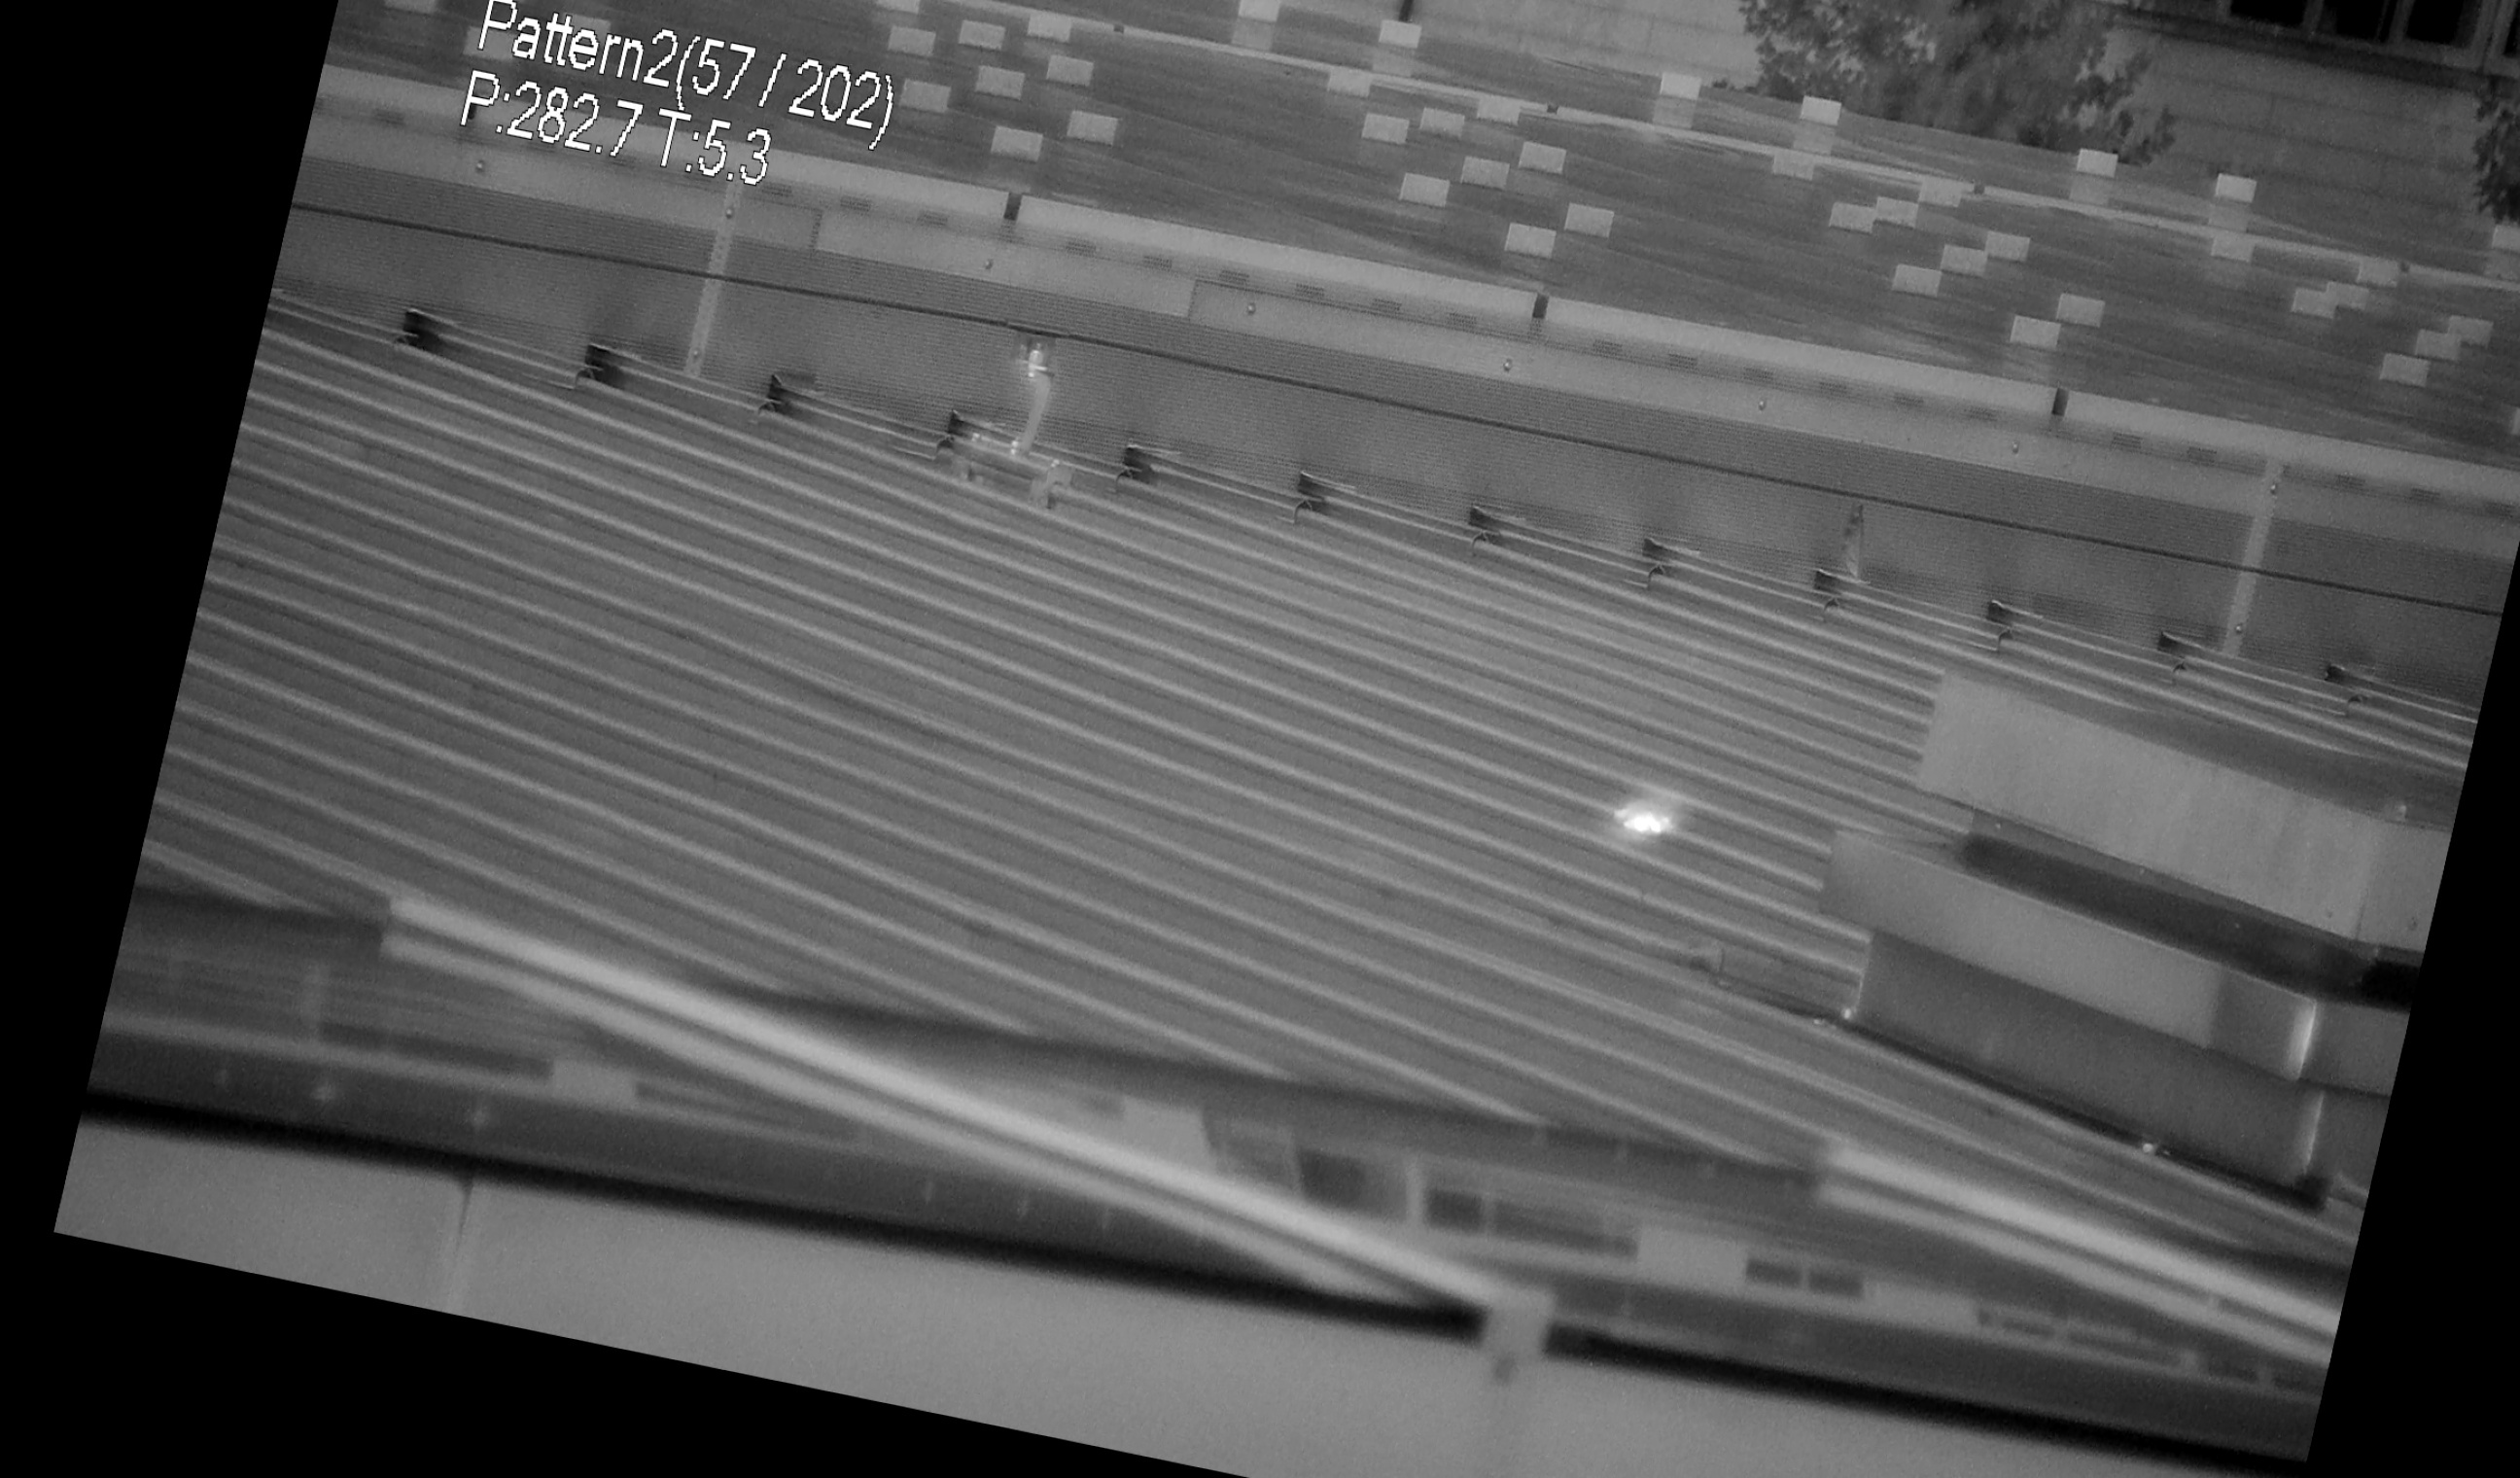Other: (1808, 494, 1890, 616)
